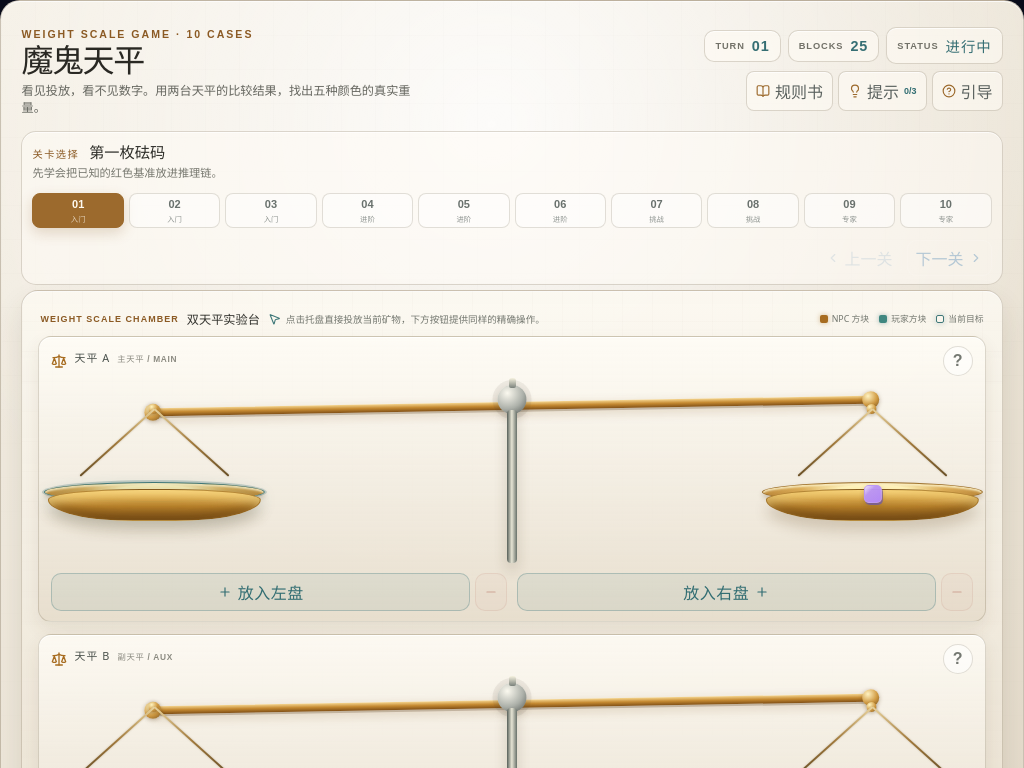
DevilsBalanceGame interactions › places the selected mineral when the player clicks a pan directly
The width and height of the screenshot is (1024, 768).
Step 1. Click the button named "把红色投放到A 右盘" → (873, 503), box [762,482,983,525]
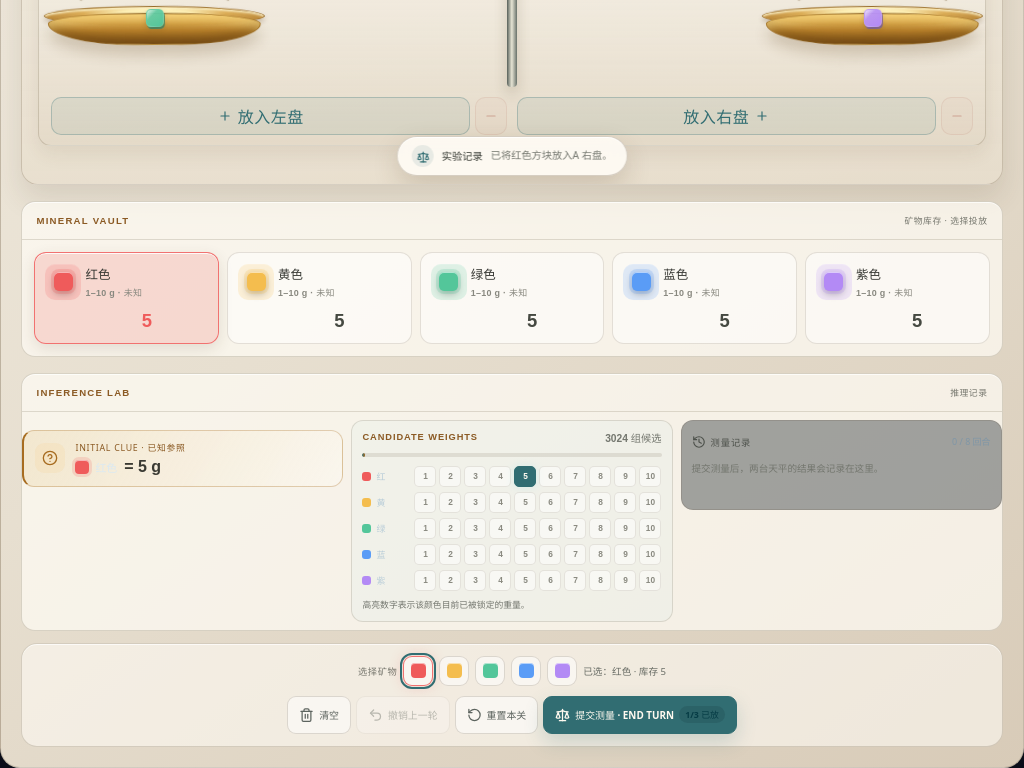
Expected: the message shows "已将红色方块放入A 右盘", [491,148,612,162]
Expected: the button "提交测量 · END TURN 1/3 已放" is shown, [543,696,737,734]
